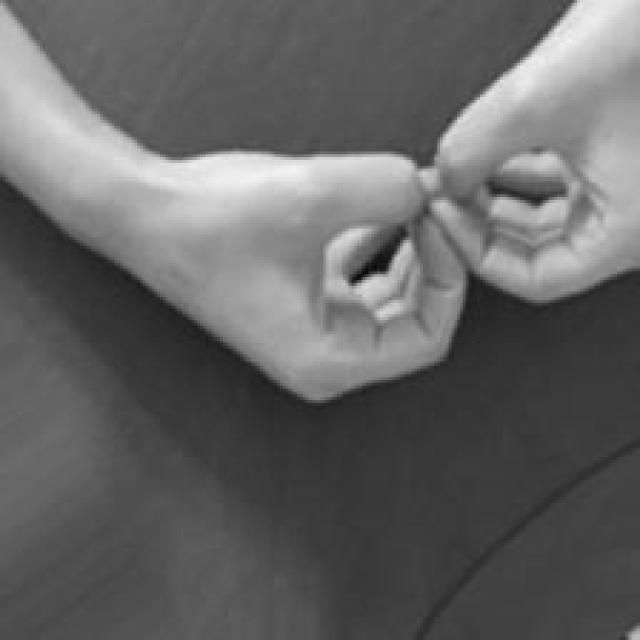B: (177, 51, 640, 402)
